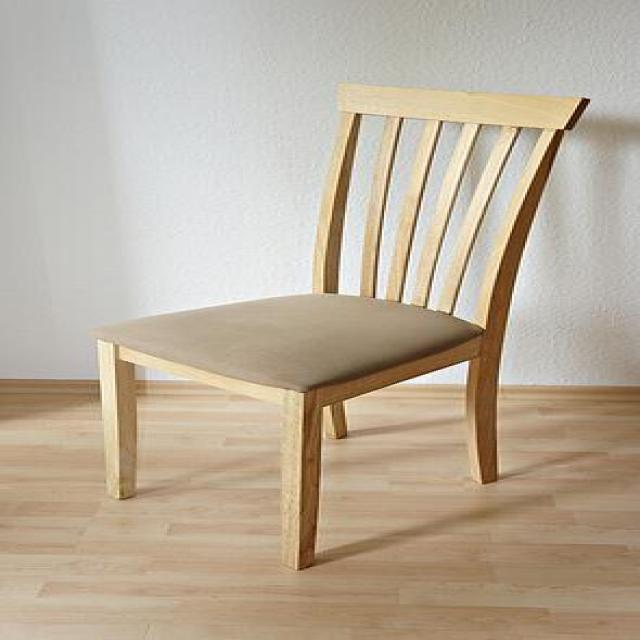chair: (89, 80, 590, 570)
